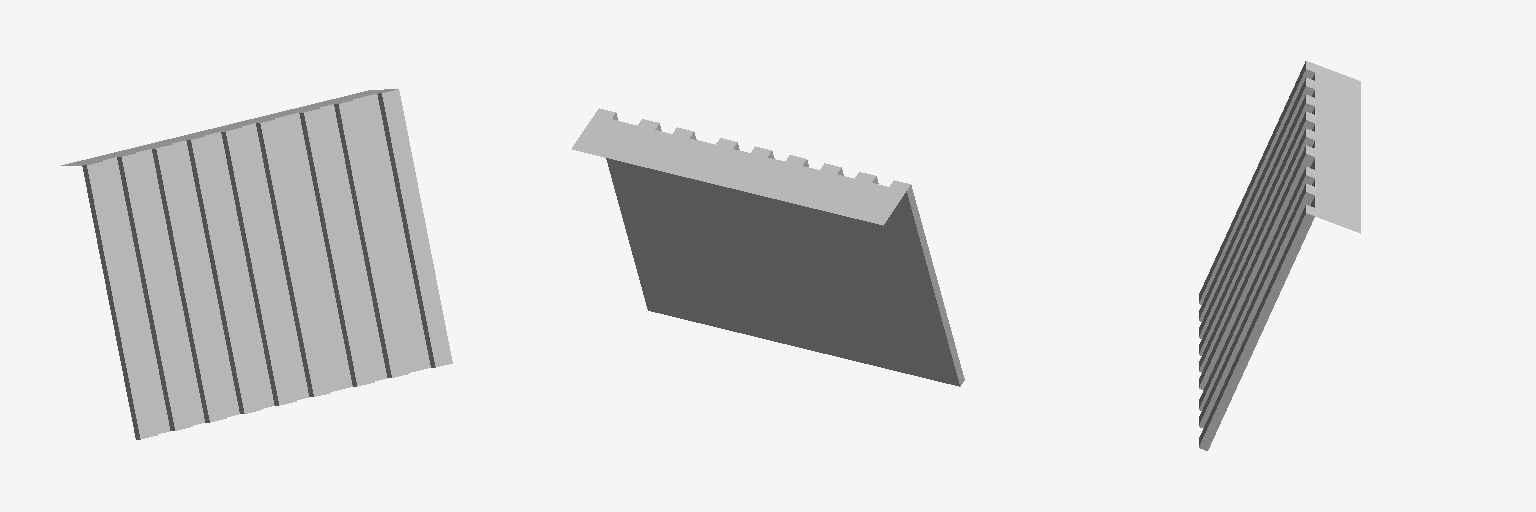
The model's file is large_crusher_jaw.obj.
3 views of the same model, side by side, from view 1: azimuth 30°, elevation 25°; view 2: azimuth 150°, elevation 25°; view 3: azimuth 270°, elevation 25° (orthographic).
Visible parts, largest first — view 1: cube; view 2: cube; view 3: cube.
Part boxes in pixels (left/top/right/bottom): cube: left=61, top=89, right=452, bottom=439; cube: left=572, top=108, right=964, bottom=386; cube: left=1199, top=61, right=1360, bottom=450.
Bounding box in the file's own units: 2.25 × 1.64 × 1.02.